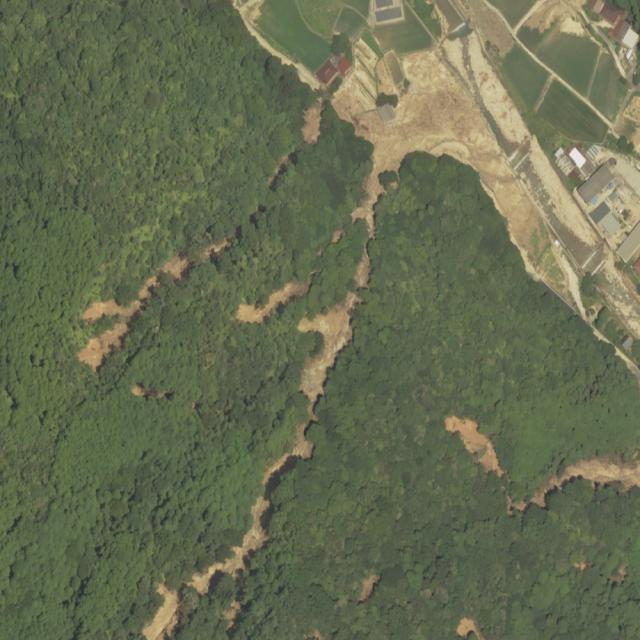landslide: (357, 48, 551, 274), (185, 495, 270, 596), (299, 291, 360, 420), (79, 275, 157, 370), (531, 458, 640, 506), (446, 416, 505, 478), (262, 423, 313, 489), (236, 282, 310, 323), (142, 585, 179, 640), (160, 257, 190, 279), (355, 252, 370, 288), (459, 620, 479, 634)
